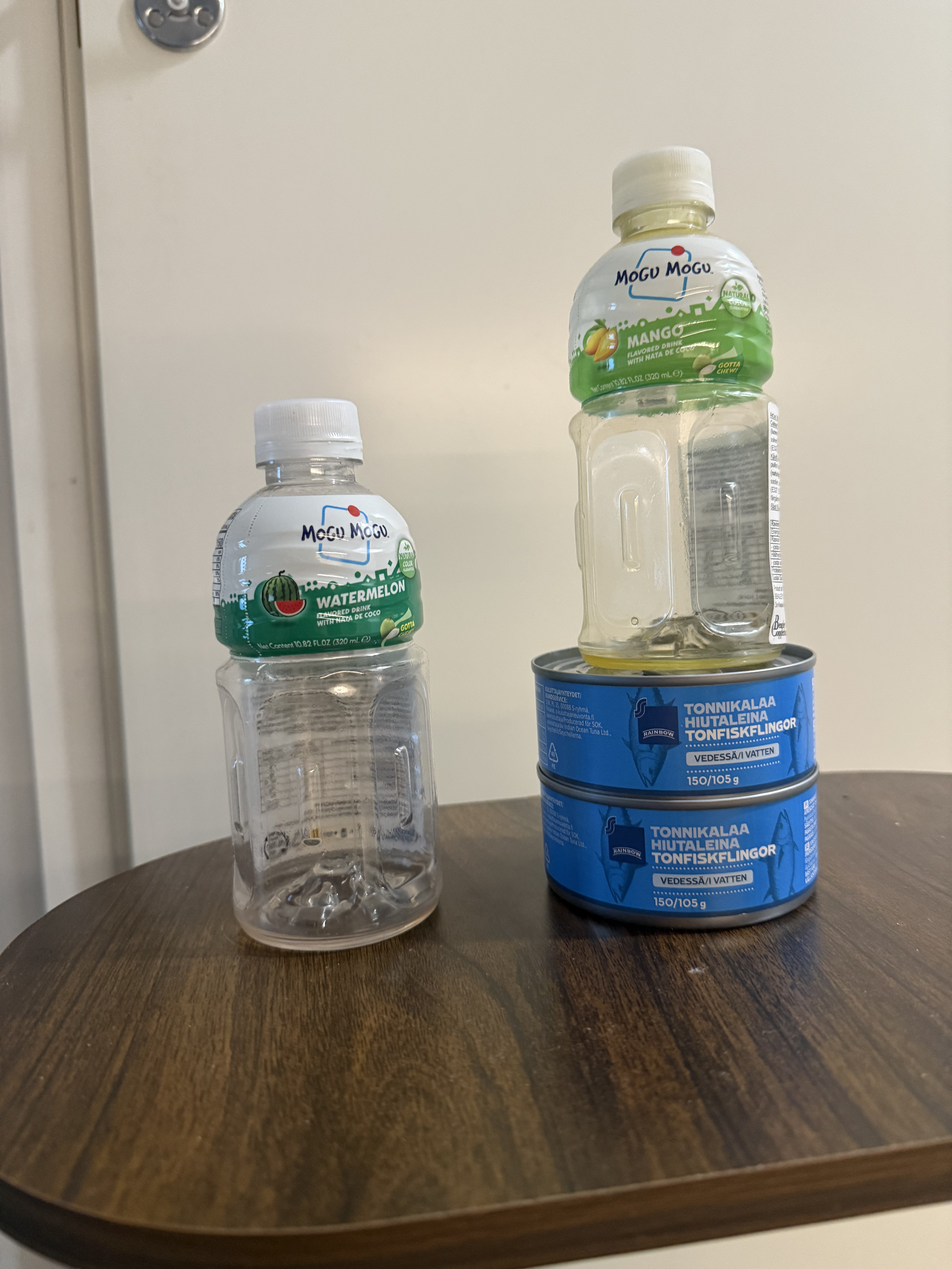Konservburk: (533, 662, 817, 795), (533, 803, 825, 928)
Pantburk: (200, 397, 446, 948), (560, 155, 790, 661)
